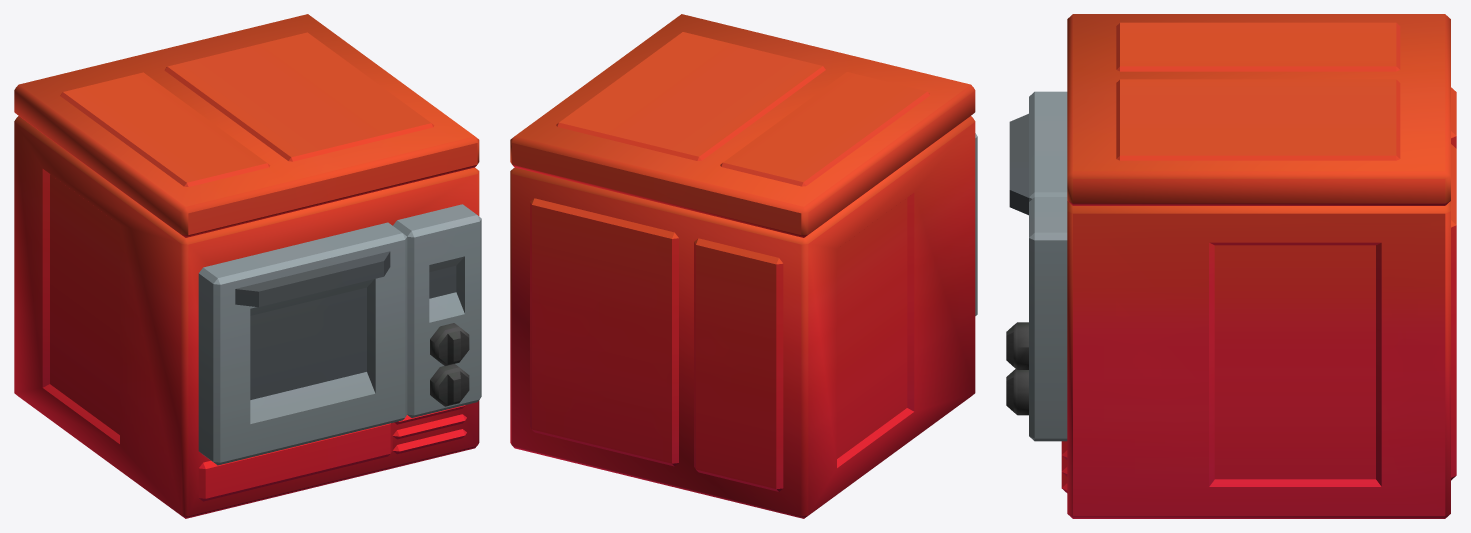
The model's file is kay-forno.gltf.
3 renders of one model, left to right at view 1: azimuth 30°, elevation 25°; view 2: azimuth 150°, elevation 25°; view 3: azimuth 270°, elevation 25°, orthographic. The views are drawn at different scales.
Visible parts, largest first — view 1: oven; view 2: oven; view 3: oven.
Part boxes in pixels (<box>): oven: <box>14,14,481,518</box>; oven: <box>510,14,977,518</box>; oven: <box>1006,14,1456,518</box>.
Bounding box in the file's own units: 1.3 × 1.31 × 1.53.
Materials: 1 (1 with a texture image).
